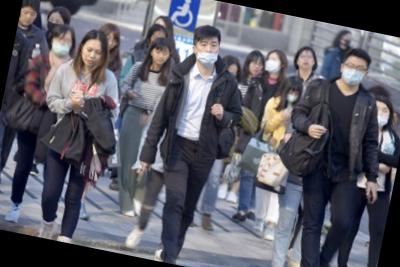mask_weared_incorrect: (194, 38, 221, 69), (48, 32, 76, 61), (371, 104, 394, 128)
with_mask: (339, 60, 369, 90), (262, 54, 285, 78), (44, 15, 67, 36), (286, 90, 301, 106)
without_mask: (79, 43, 105, 70), (19, 7, 40, 30), (296, 51, 318, 72), (245, 58, 265, 78), (150, 47, 171, 66), (102, 34, 119, 53)
